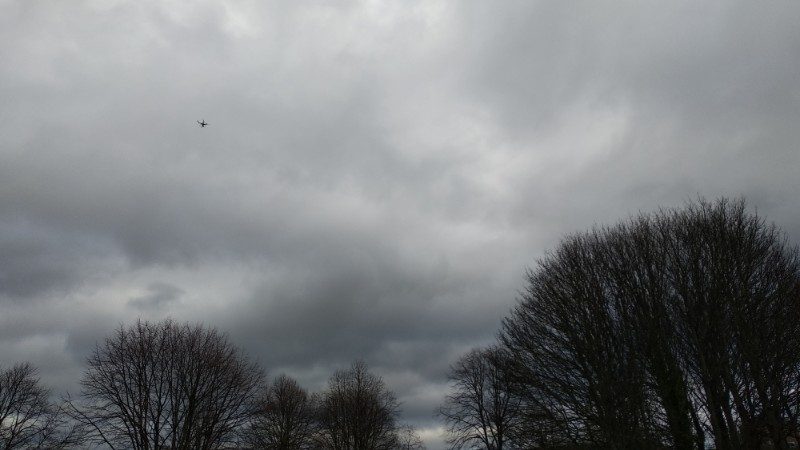drone: (197, 119, 209, 128)
